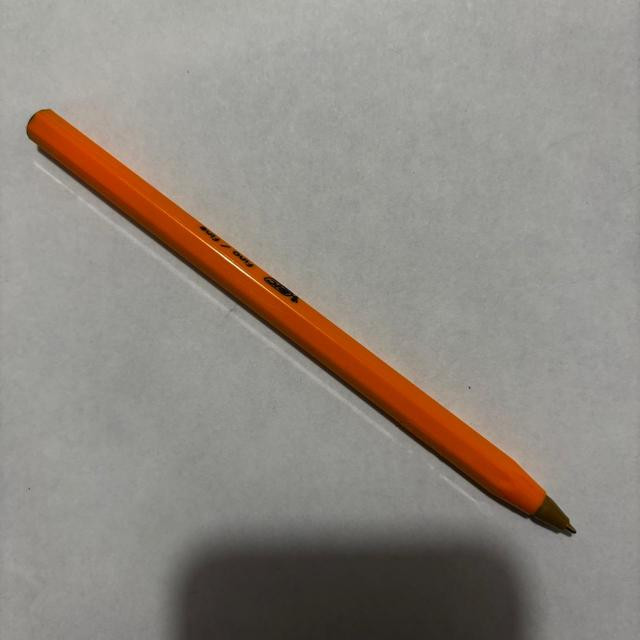pencil: (26, 110, 576, 537)
